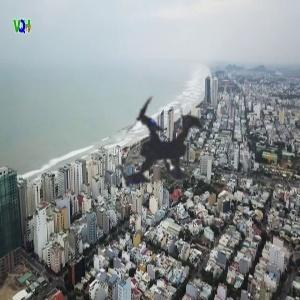drone: (18, 7, 296, 285)
